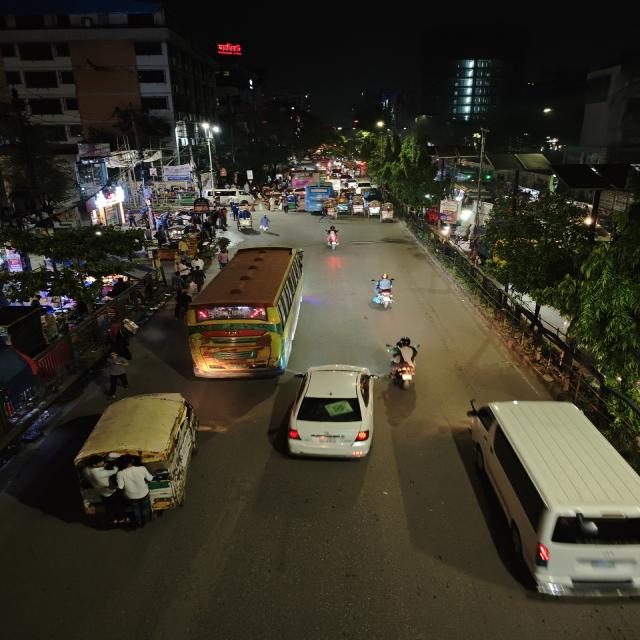bus: (185, 243, 309, 380), (301, 184, 335, 212), (289, 170, 319, 188)
car: (459, 397, 640, 601), (276, 361, 386, 465), (346, 176, 362, 189)
human_hauler: (68, 390, 206, 530)
motorcycle: (384, 335, 427, 391), (366, 272, 401, 312), (321, 224, 346, 252)
pedestrian: (96, 354, 133, 396), (172, 288, 192, 320), (214, 235, 230, 256), (258, 214, 272, 234), (317, 206, 332, 223), (278, 198, 292, 215)
rickshaw: (240, 208, 256, 232), (364, 199, 382, 218), (338, 189, 357, 207), (380, 202, 396, 222), (351, 198, 366, 216), (336, 200, 354, 215)
